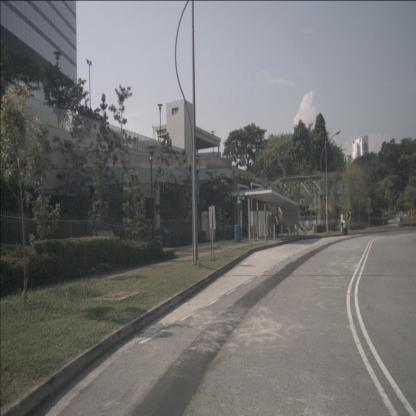human-pedestrian-adult: (275, 213, 280, 238)
vehicle-motorcycle: (341, 218, 348, 236)
